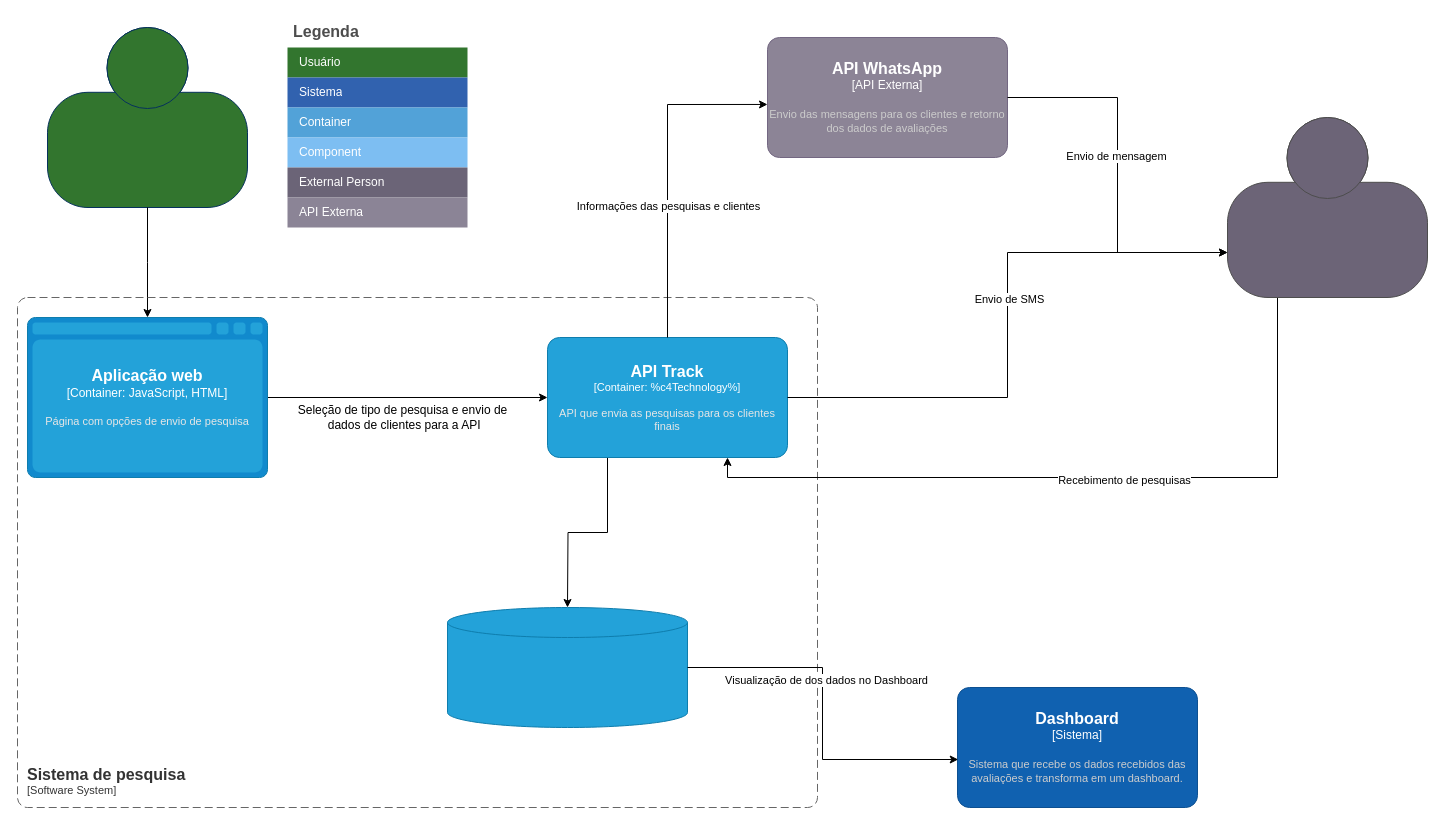
Image size: 1445x825. Some labels were removed from this diagram. The box of each missing label's shape, as (x1, y1, x2, y2) in pixels:
Base de dados [Container: Postgres] Base de dados com respostas das pesquisas: (446, 606, 688, 728)
Cliente [Usuário] Empresa que cadastrará suas pesquisas na plataforma.: (46, 26, 248, 208)
Cliente Final [Person] Cliente que responde pesquisas: (1226, 116, 1428, 298)
